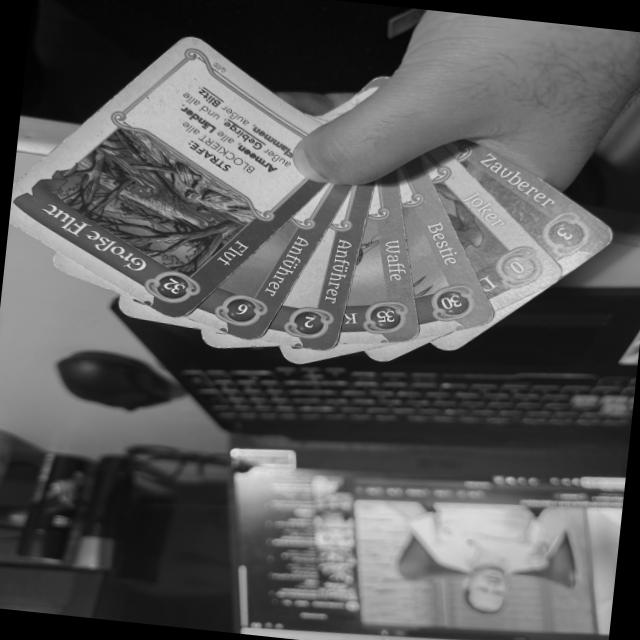Doppelganger: (424, 148, 560, 313)
Dragon: (396, 160, 496, 338)
Great Flood: (9, 31, 326, 322)
Necromancer: (442, 138, 615, 273)
Princess: (264, 179, 373, 351)
Queen: (188, 179, 341, 340)
War Dirigable: (339, 173, 417, 345)
